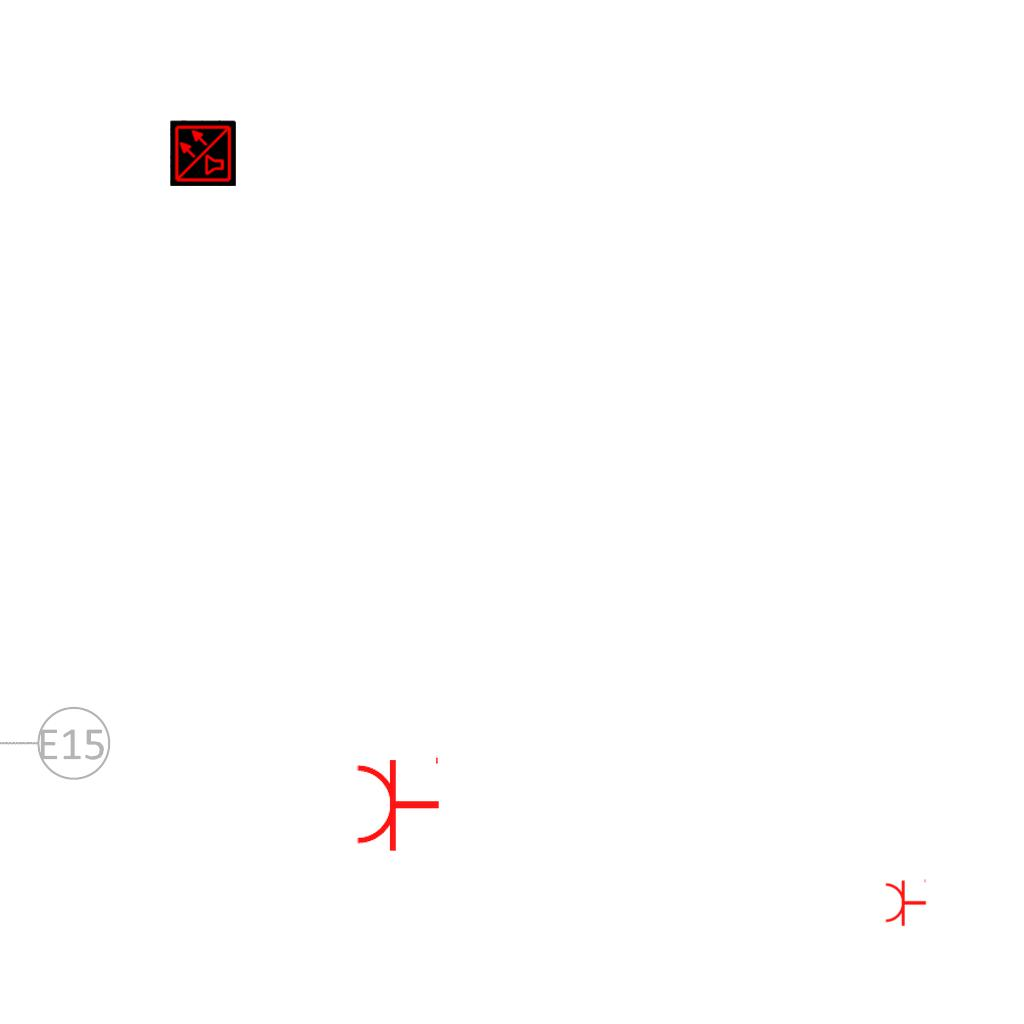OKW_Multisensormelder_(Kombination_optischer_Rauch-Kahlenmonoxid_Waerme-Melder): (170, 120, 236, 186)
Schukosteckdose_einfach: (354, 753, 441, 853), (884, 877, 927, 927)
